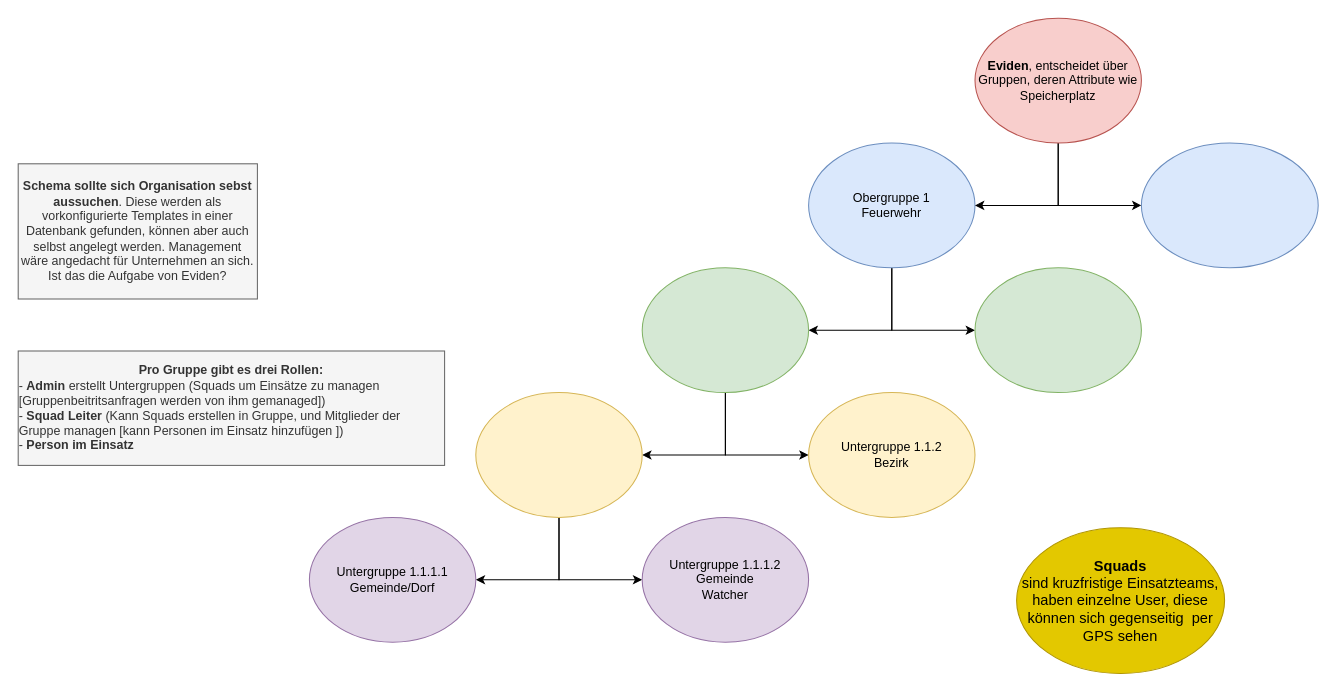
The diagram is 1336 pixels wide and 692 high, and some of its shapes have lost their labels. The shapes that lost their labels are listed below. From the top down, each one's centre as x and y in pixels, then its label:
the point at 1229,205: Obergruppe 2 Polizei
the point at 725,330: Untergruppe 1.1 Bundesland
the point at 1057,330: Untergruppe 1.2 Salzburg
the point at 558,454: Untergruppe 1.1.1 Bezirk
